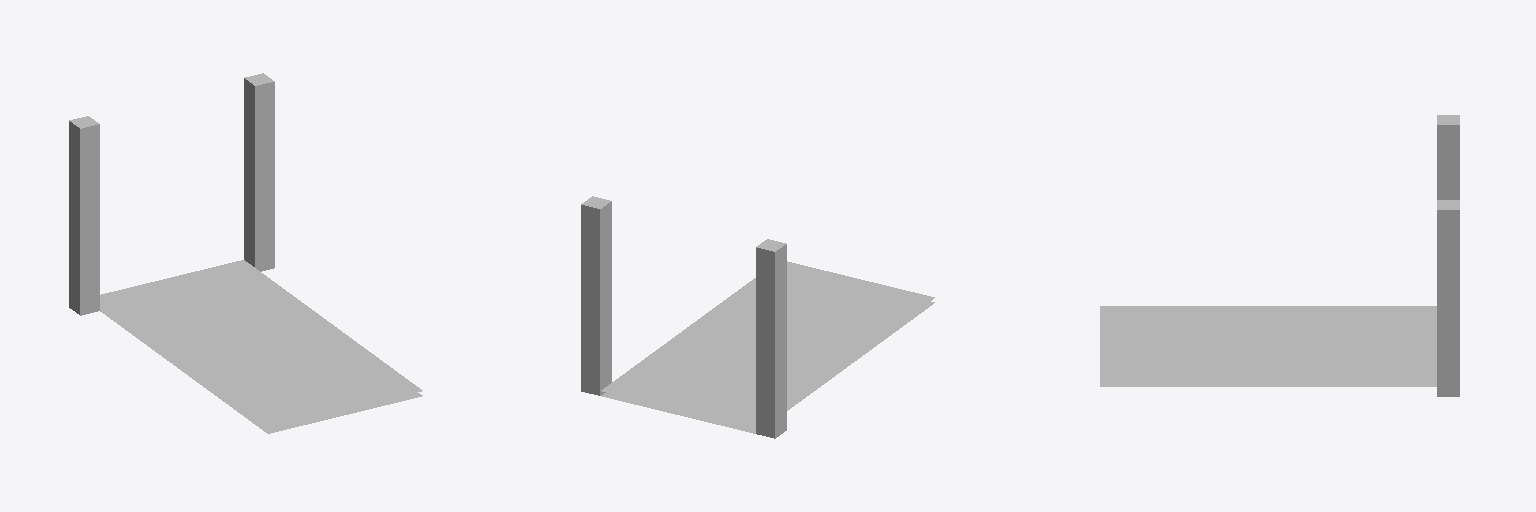
Rendered from Finish_Line_KCL.obj.
The picture shows the model from 3 angles: view 1: azimuth 30°, elevation 25°; view 2: azimuth 150°, elevation 25°; view 3: azimuth 270°, elevation 25°; orthographic projection.
Visible parts, largest first — view 1: ROAD, WALL; view 2: ROAD, WALL; view 3: ROAD, WALL.
Part boxes in pixels (left/top/right/bottom): ROAD: left=100, top=260, right=422, bottom=428; WALL: left=69, top=73, right=422, bottom=433; ROAD: left=601, top=261, right=934, bottom=428; WALL: left=581, top=196, right=934, bottom=438; ROAD: left=1100, top=306, right=1436, bottom=381; WALL: left=1100, top=115, right=1459, bottom=396.
Size of the model in its own units: 20 by 18.38 by 32.